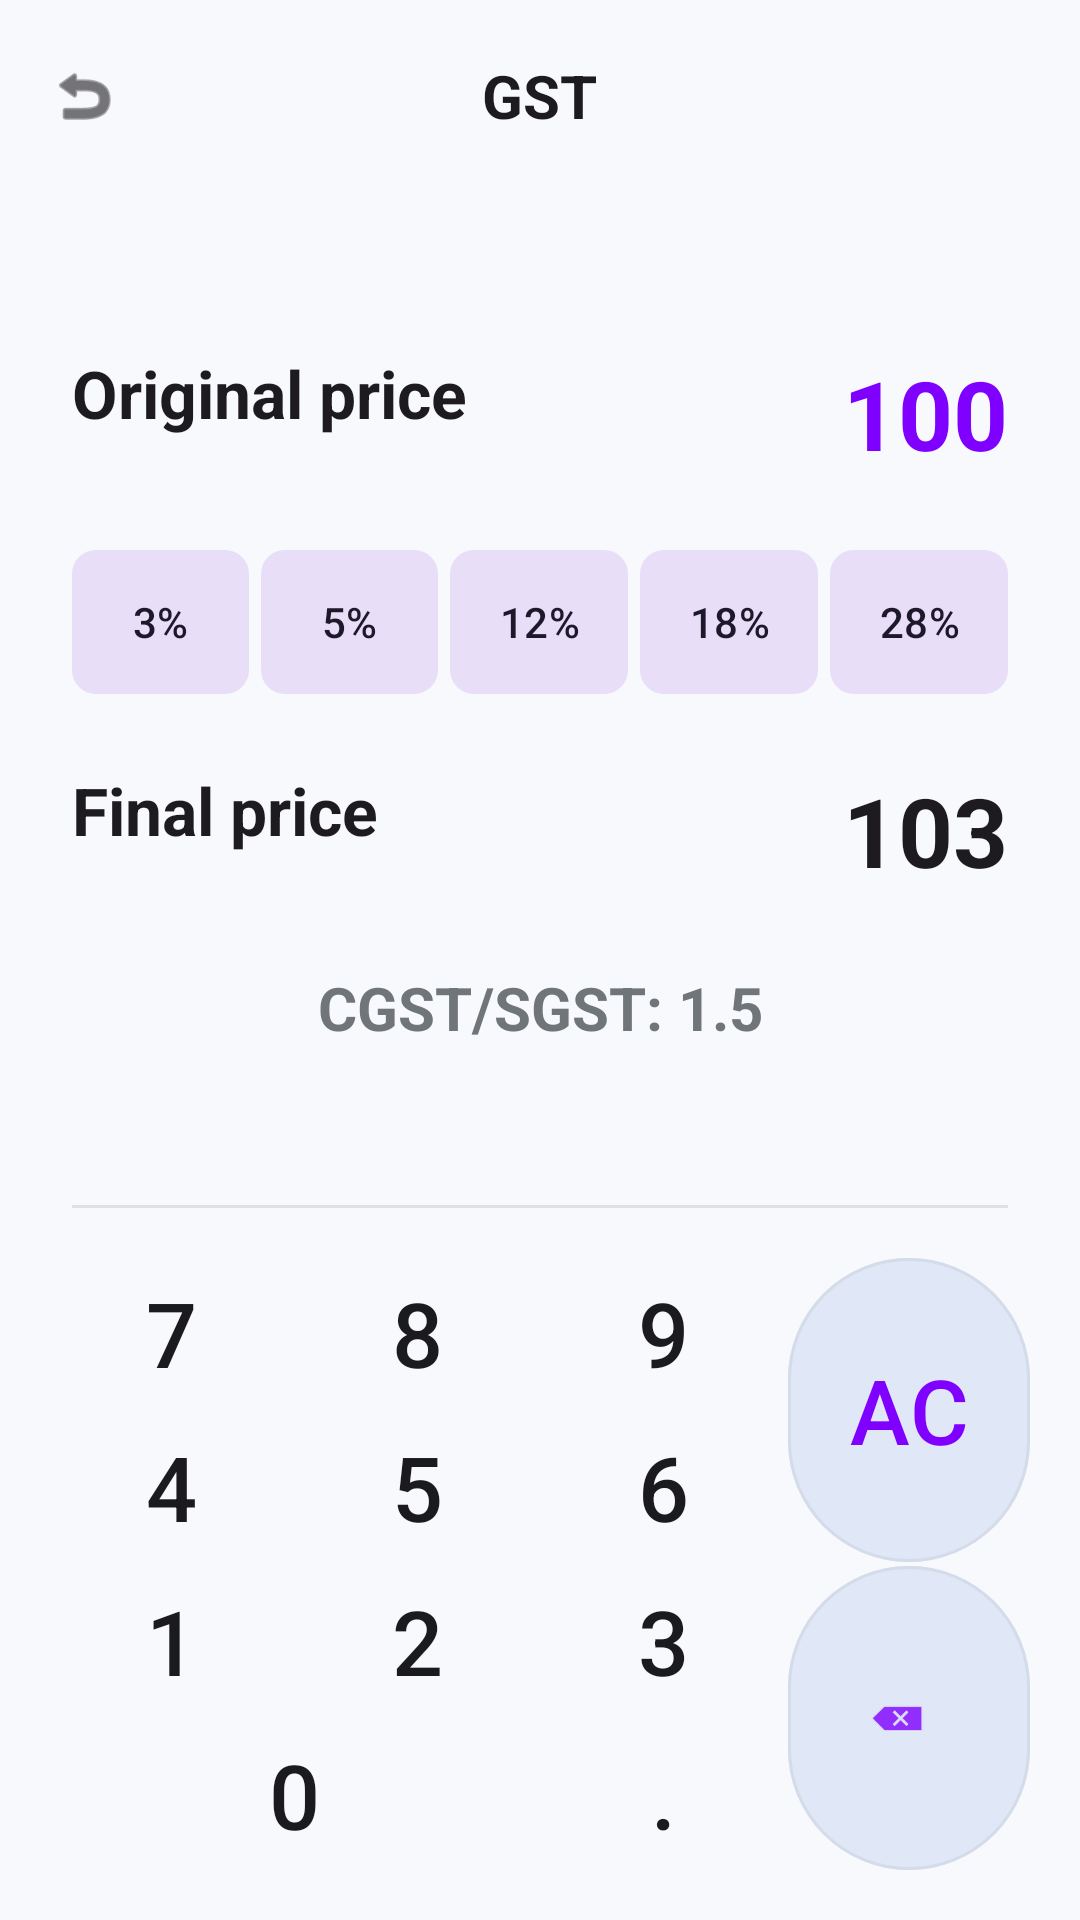

Named icons in this screenshot (1080 x 1920) and their centers, point (x, y):
delete: point (909, 1718)
revert: point (85, 96)
